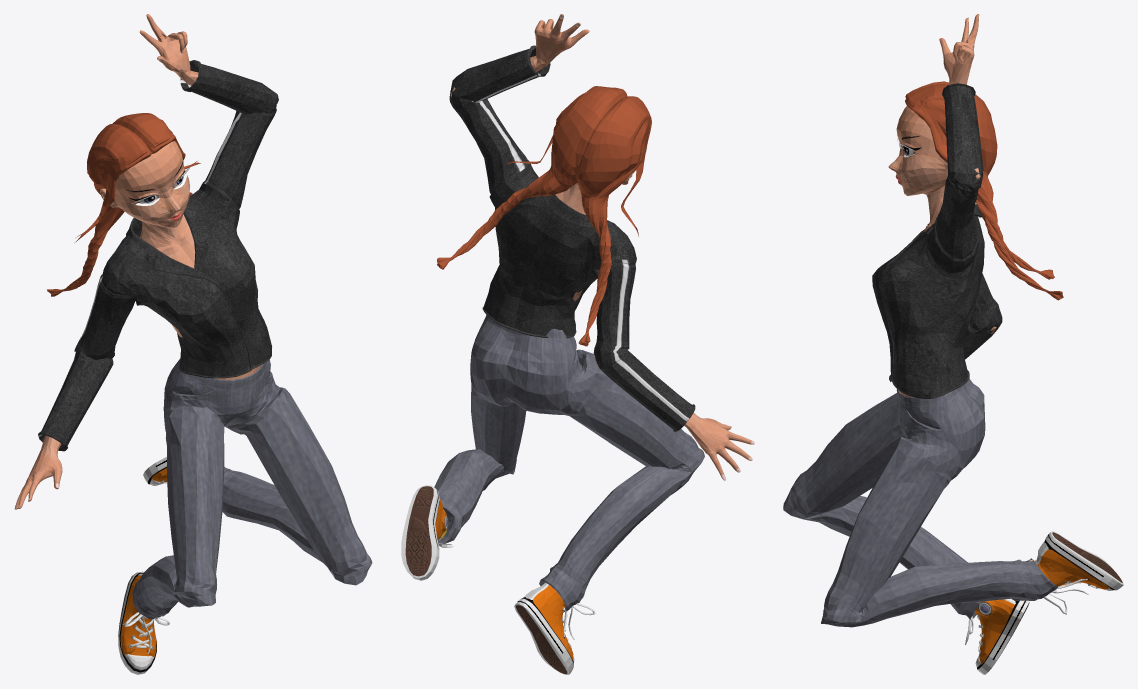
Rendered from jade2.obj.
The picture shows the model from 3 angles, left to right: view 1: azimuth 30°, elevation 25°; view 2: azimuth 150°, elevation 25°; view 3: azimuth 270°, elevation 25°; orthographic projection.
Parts seen in each view (by area): view 1: Thorax, Top, Hair; view 2: Thorax, Top, Hair; view 3: Thorax, Top, Hair.
Boxes of the visible parts, x1,y1,x2,y2 form: Thorax: (14,14,372,674); Top: (38,60,278,451); Hair: (47,113,200,296); Thorax: (401,14,754,674); Top: (449,45,695,431); Hair: (437,86,651,346); Thorax: (783,14,1123,674); Top: (872,83,1002,398); Hair: (905,81,1063,300).
Bounding box in the file's own units: 72.32 × 146 × 68.05.
6 materials, 5 textured.
